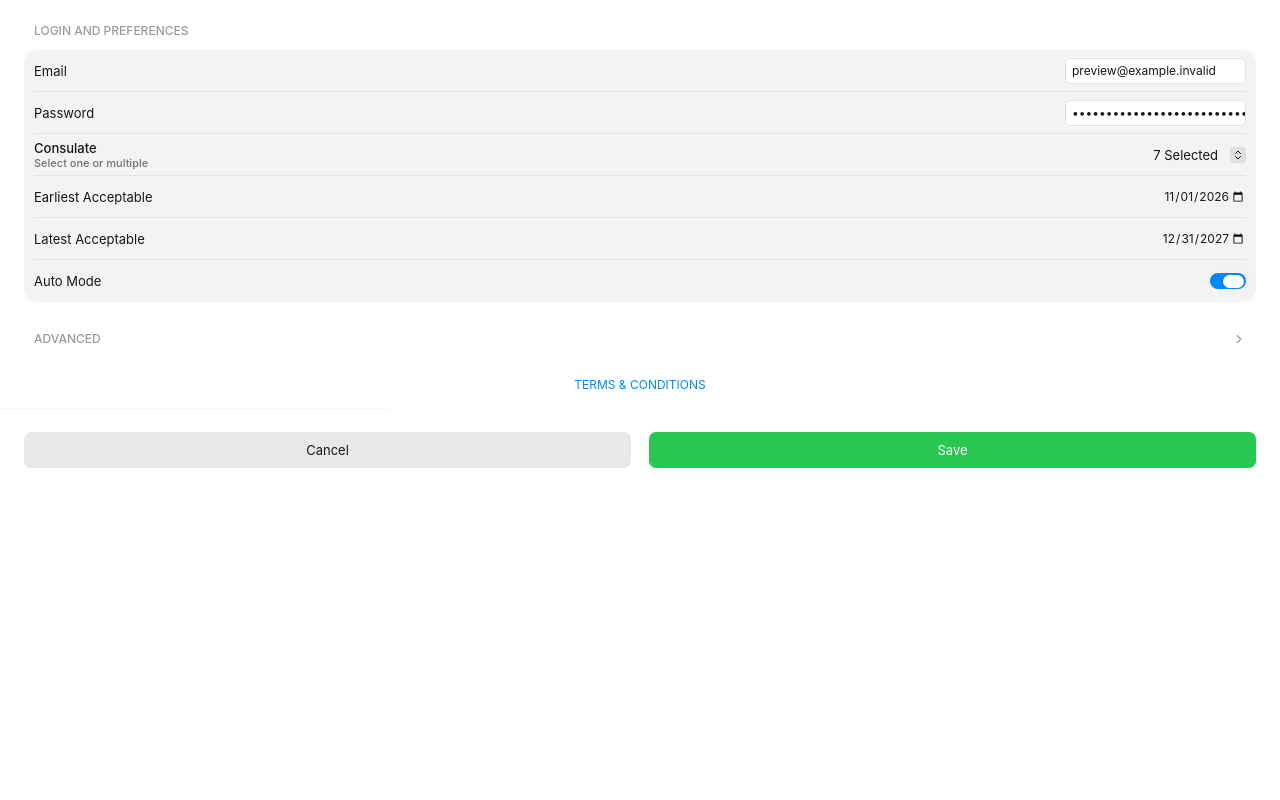
Scenario: Settings validation timing › raises an old below-minimum interval in the draft without changing saved preferences
Click the button "Advanced".
click(67, 338)  # box [24,324,1256,354]
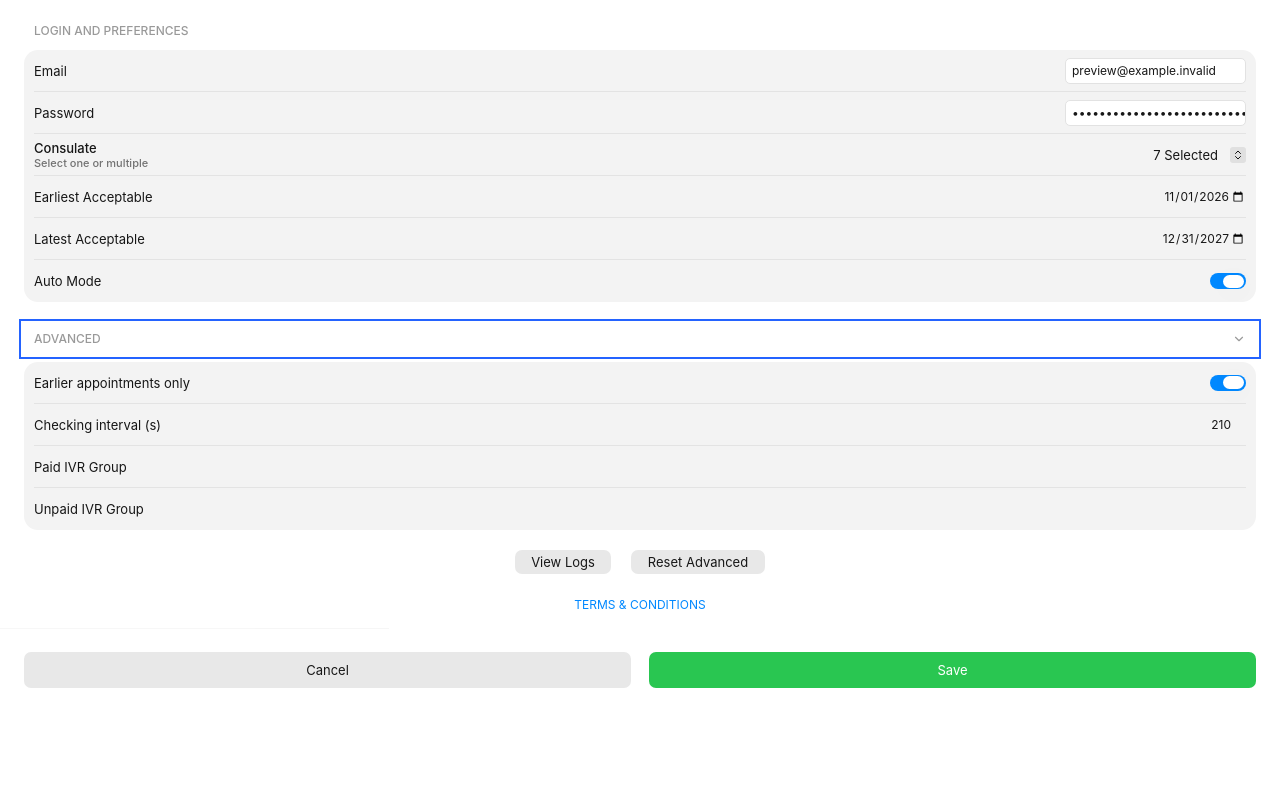
Expected: the number field labelled "Checking interval (s)" holds "210", [1176,412,1246,438]
